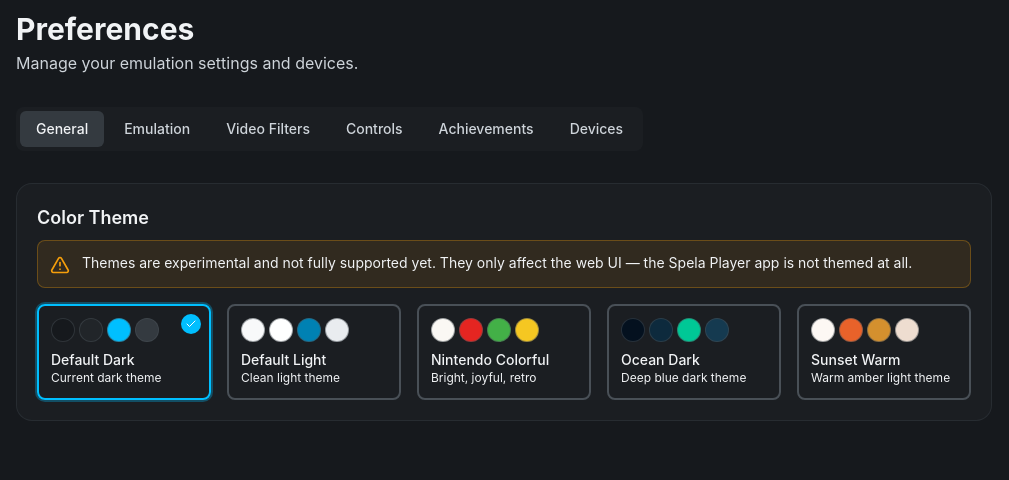
Test: PreferencesPage › shows devices list on Devices tab
The image size is (1009, 480).
Click the tab "Devices" at (596, 129), box 554,111 -> 639,147
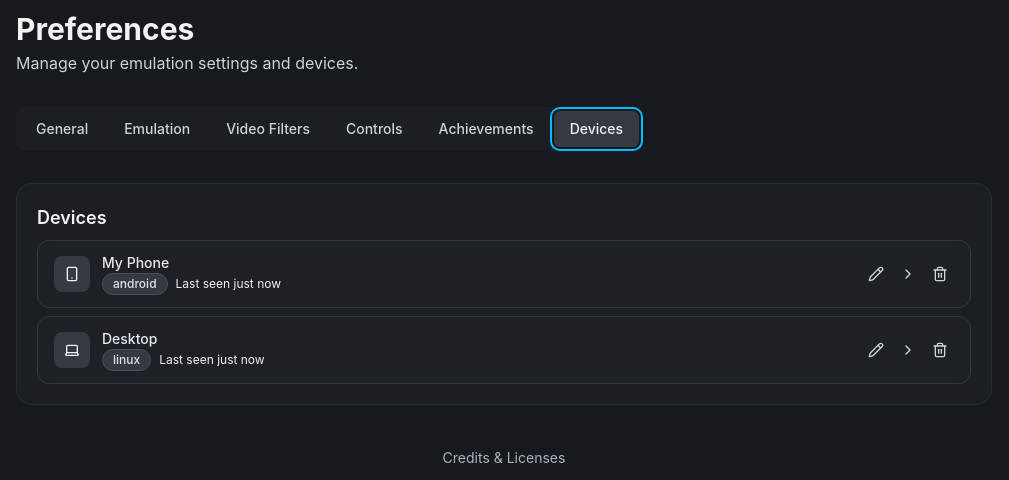
Expected: the text "My Phone" is shown, 102,254 -> 169,271
Expected: the text "Desktop" is shown, 102,330 -> 157,347
